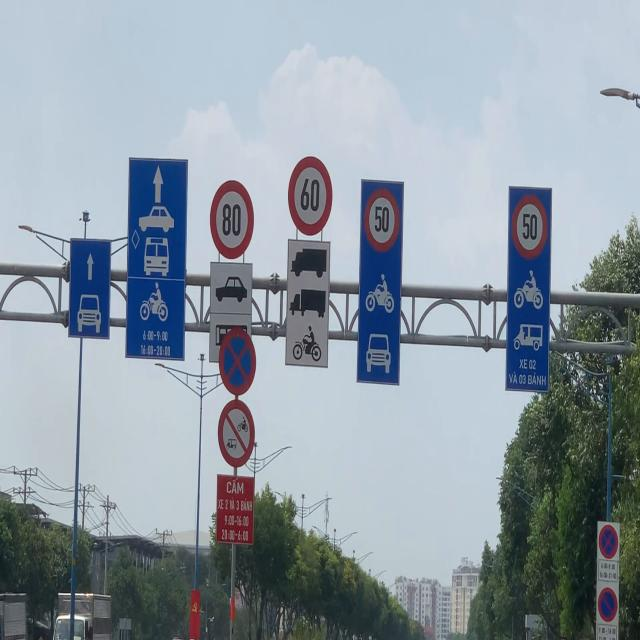Cam con lai: (218, 399, 256, 468)
Cam do: (598, 587, 618, 623)
Cam dung va do: (218, 328, 256, 396), (599, 525, 618, 559)
Toc do toi da: (288, 156, 333, 236), (210, 180, 254, 259), (511, 195, 548, 259), (364, 189, 400, 252)
